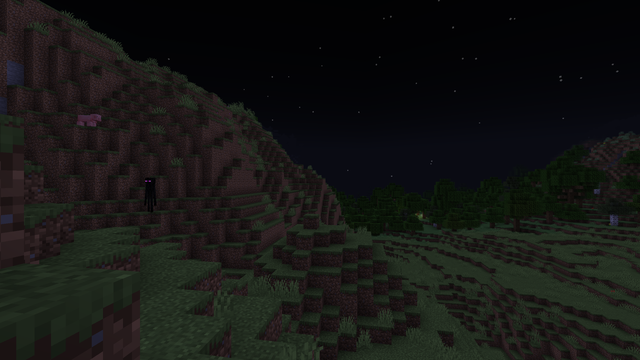cochons: (76, 114, 96, 126)
endermens: (144, 176, 156, 211)
